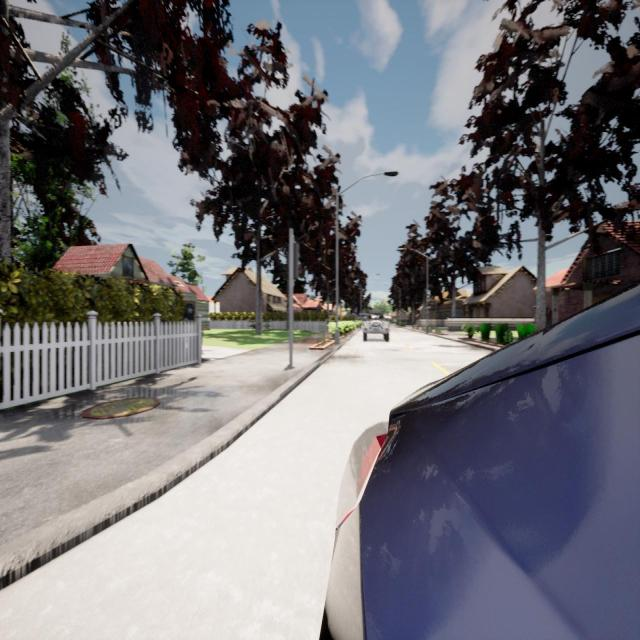Vehicle: (320, 285, 640, 640), (360, 303, 393, 347)
traffic_light: (293, 243, 300, 280)
